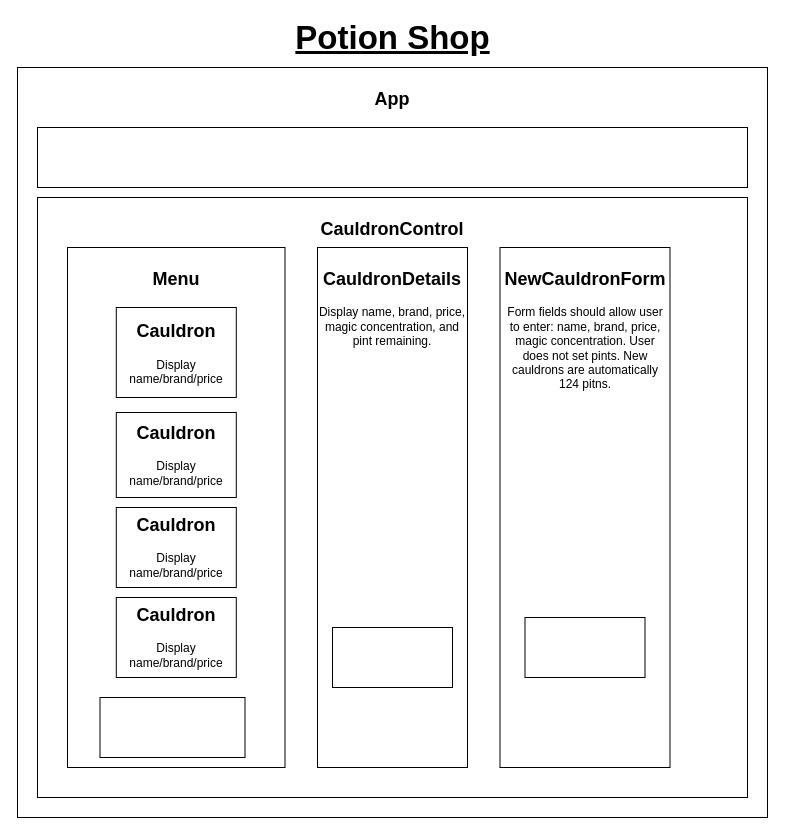
The diagram is 785 pixels wide and 835 high, and some of its shapes have lost their labels. The shapes that lost their labels are listed below. From the top down, each one's centre as x and y in pixels, then its label:
At point (392, 157): "Header".
At point (392, 657): "BuyPintButton".
At point (584, 647): "Submit".
At point (172, 727): "AddCauldronButton".
